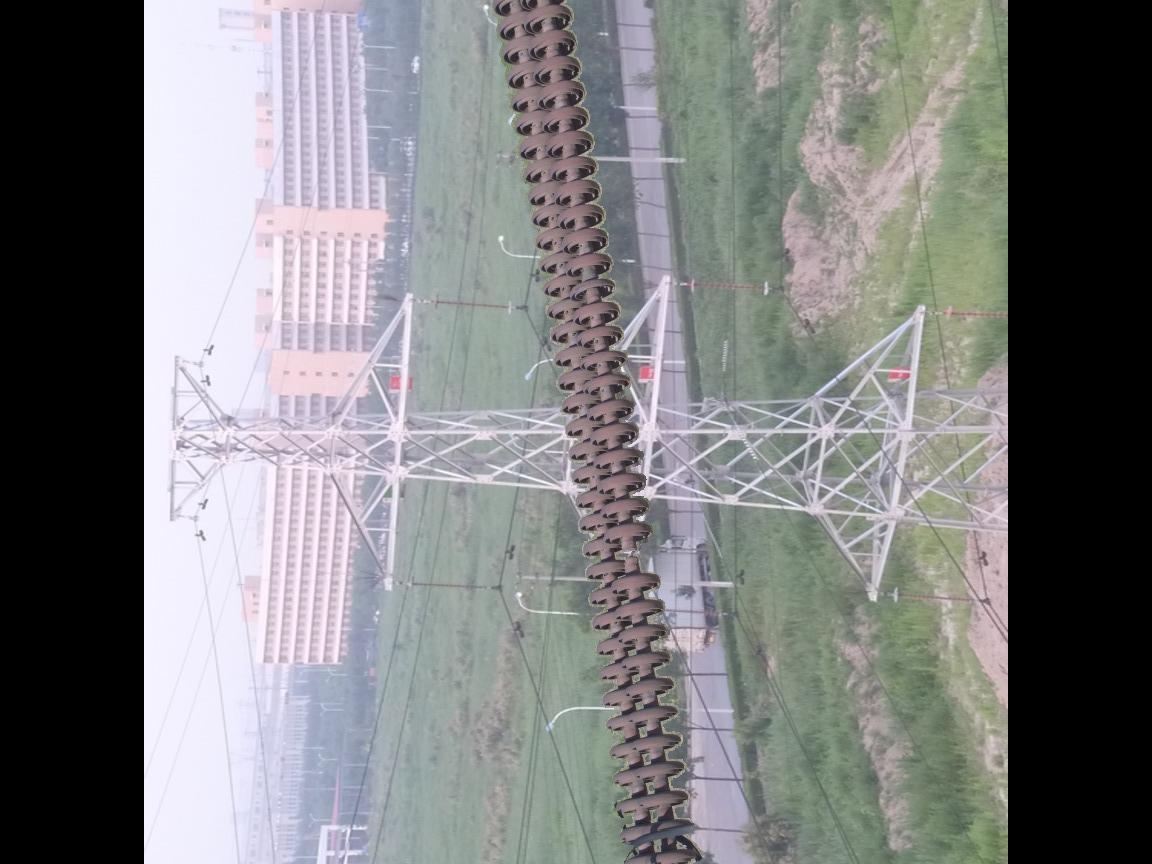insulator: (487, 1, 706, 864)
insulator_stringdrop: (597, 520, 663, 599)
